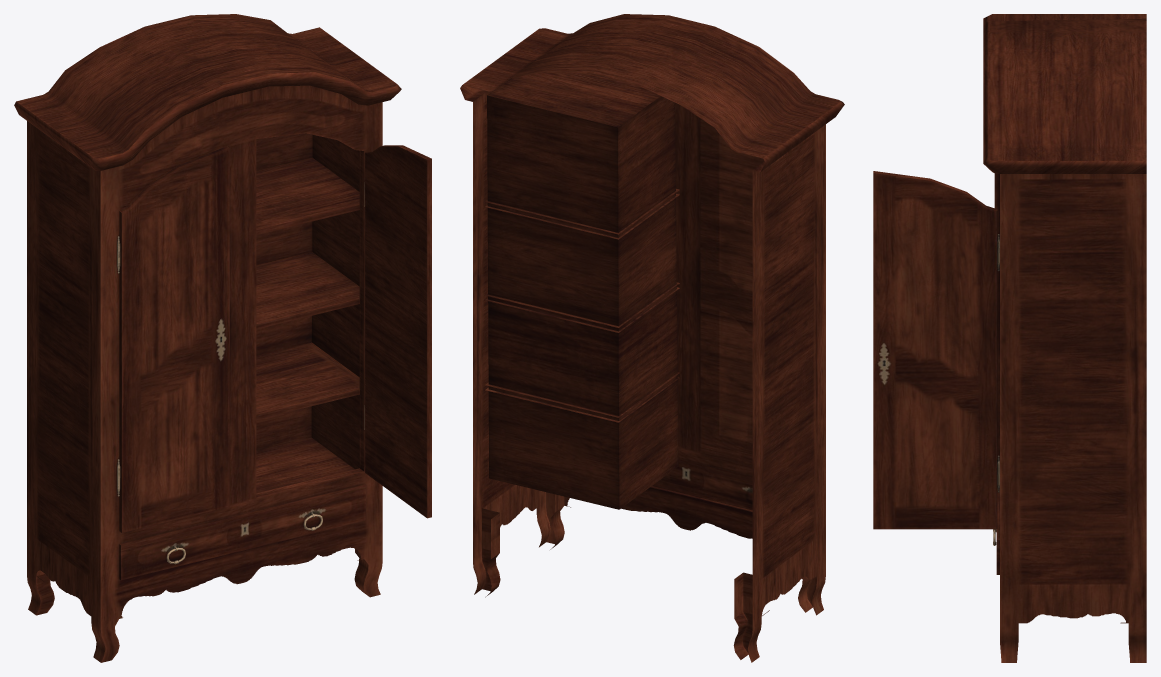
The model's file is cupboard.glb.
3 renders of one model, left to right at view 1: azimuth 30°, elevation 25°; view 2: azimuth 150°, elevation 25°; view 3: azimuth 270°, elevation 25°, orthographic.
Visible parts, largest first — view 1: meuble, porte; view 2: meuble; view 3: meuble, porte.
Part boxes in pixels (x1,y1,x2,y2): meuble: (14,14,401,662); porte: (364,145,431,518); meuble: (460,14,844,662); meuble: (983,14,1146,662); porte: (873,171,999,529).
Size of the model in its own units: 220 by 379 by 170.
Materials: 1 (1 with a texture image).
